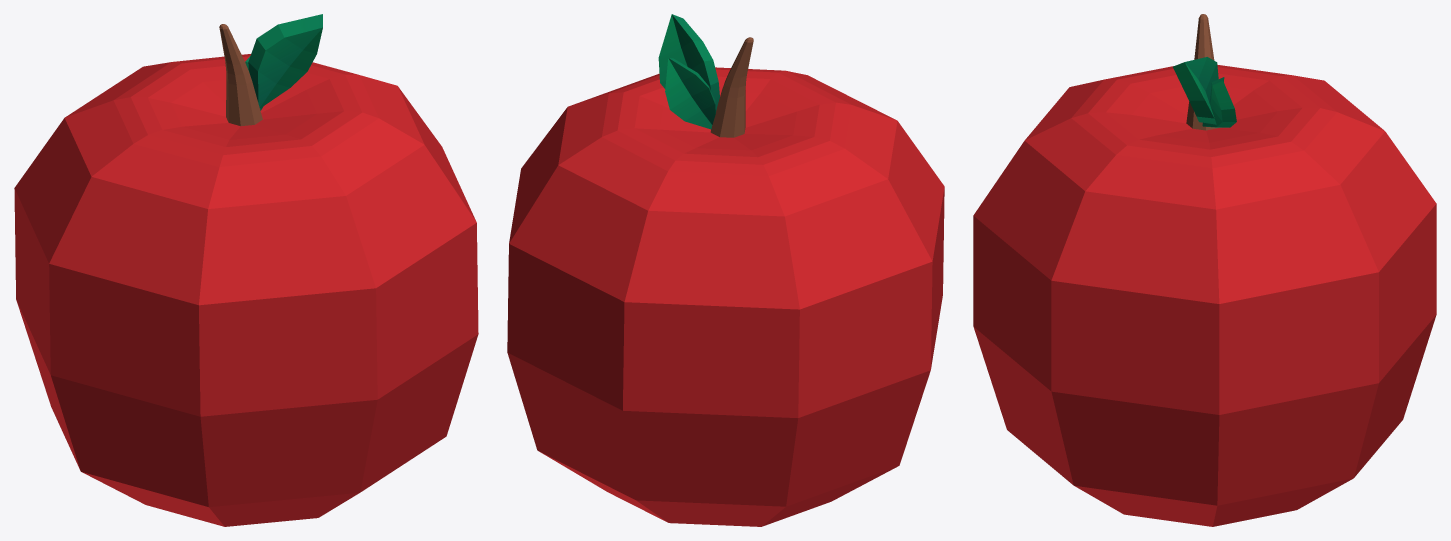
Rendered from Maça.fbx.
The picture shows the model from 3 angles, left to right: view 1: azimuth 30°, elevation 25°; view 2: azimuth 150°, elevation 25°; view 3: azimuth 270°, elevation 25°; orthographic projection. The views are drawn at different scales.
Visible parts, largest first — view 1: Maça barraca.002; view 2: Maça barraca.002; view 3: Maça barraca.002.
Boxes of the visible parts, box(x1,y1,x2,y2) form: Maça barraca.002: box(14, 14, 478, 526); Maça barraca.002: box(507, 14, 944, 526); Maça barraca.002: box(973, 14, 1436, 526).
Bounding box in the file's own units: 17.5 × 18.74 × 17.43.
